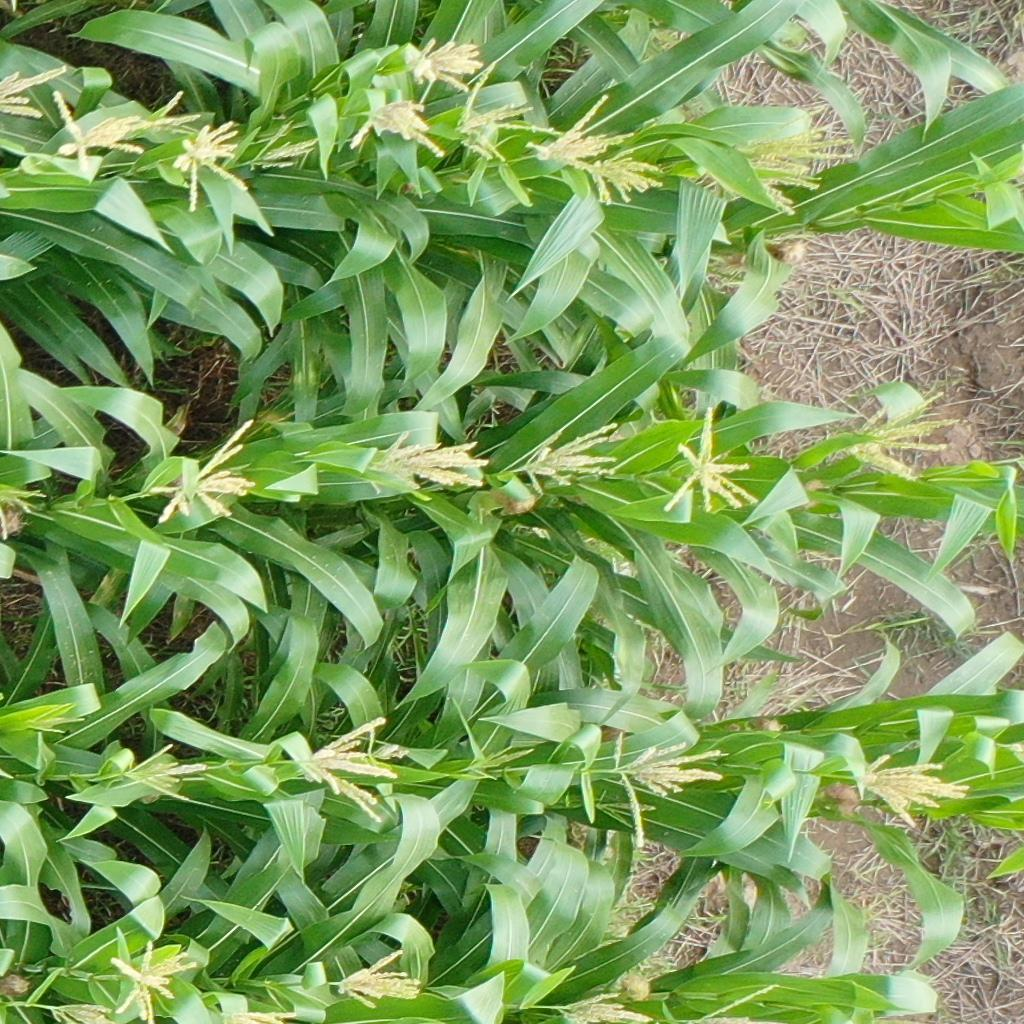Tassel: (608, 727, 727, 851), (141, 419, 266, 528), (294, 713, 414, 826), (734, 122, 857, 221), (839, 387, 963, 485), (662, 407, 769, 519), (455, 62, 565, 163), (858, 750, 972, 828), (359, 431, 487, 499), (518, 420, 627, 499), (106, 935, 197, 1024), (527, 92, 636, 163), (48, 91, 150, 163), (172, 117, 249, 211), (348, 95, 447, 158), (333, 944, 421, 1009), (120, 741, 211, 803), (575, 148, 664, 204), (408, 36, 483, 92), (1, 64, 70, 124), (682, 984, 778, 1024), (253, 117, 320, 171), (557, 993, 652, 1024), (1, 485, 48, 539), (469, 745, 534, 781), (150, 90, 202, 130), (26, 703, 88, 735), (367, 730, 411, 769), (49, 1003, 116, 1024), (219, 1006, 297, 1024)
